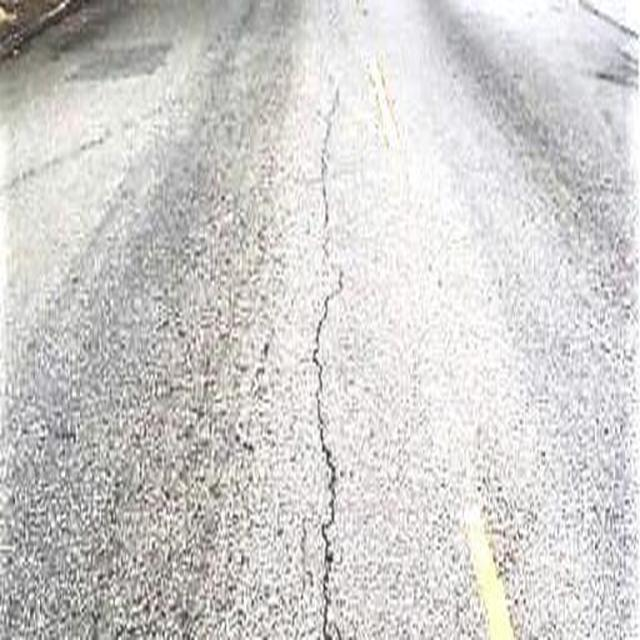moderate crack: (304, 42, 360, 638), (124, 425, 229, 526), (101, 594, 196, 640), (258, 338, 270, 358)
severe crack: (119, 28, 311, 636), (342, 32, 537, 630), (0, 128, 96, 201), (363, 50, 401, 150), (315, 522, 340, 638), (291, 168, 332, 189)
